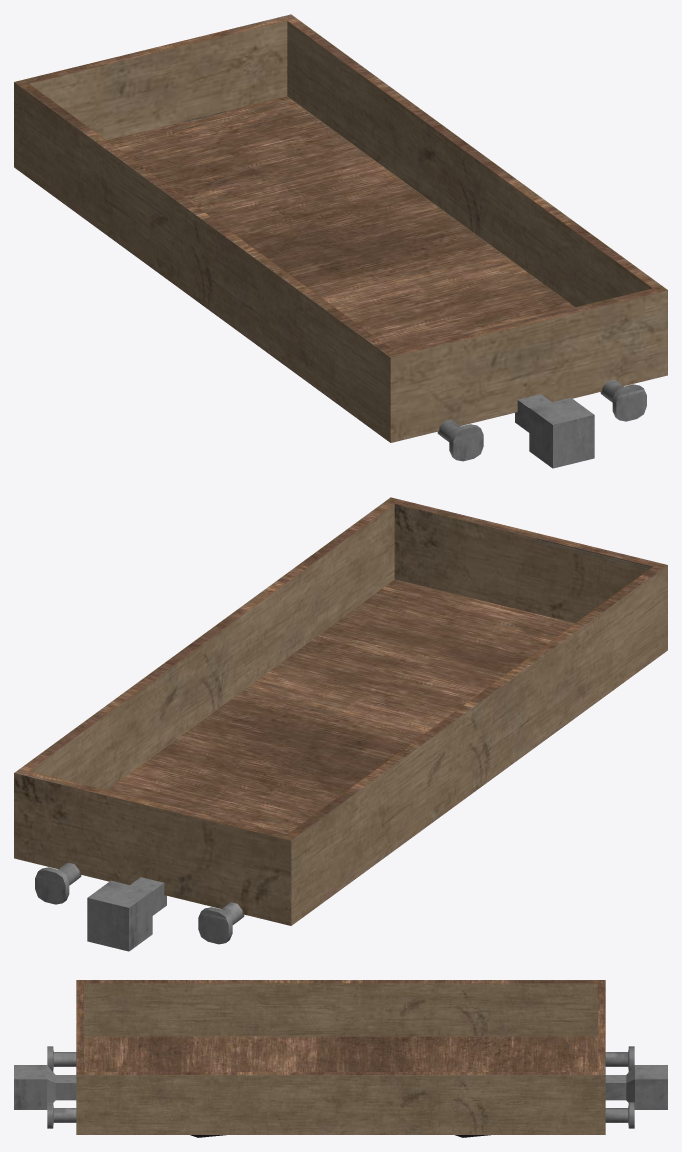
Rendered from wagon_02.gltf.
3 renders of one model, top to bottom at view 1: azimuth 30°, elevation 25°; view 2: azimuth 150°, elevation 25°; view 3: azimuth 270°, elevation 25°, orthographic. The views are drawn at different scales.
Visible parts, largest first — view 1: FreightWag_2_FreightWagon_2_0; view 2: FreightWag_2_FreightWagon_2_0; view 3: FreightWag_2_FreightWagon_2_0.
Part boxes in pixels (box(x1,y1,x2,y2)): FreightWag_2_FreightWagon_2_0: box(14, 14, 667, 468); FreightWag_2_FreightWagon_2_0: box(14, 497, 667, 951); FreightWag_2_FreightWagon_2_0: box(14, 980, 667, 1137).
Bounding box in the file's own units: 3.79 × 1.69 × 11.03.
